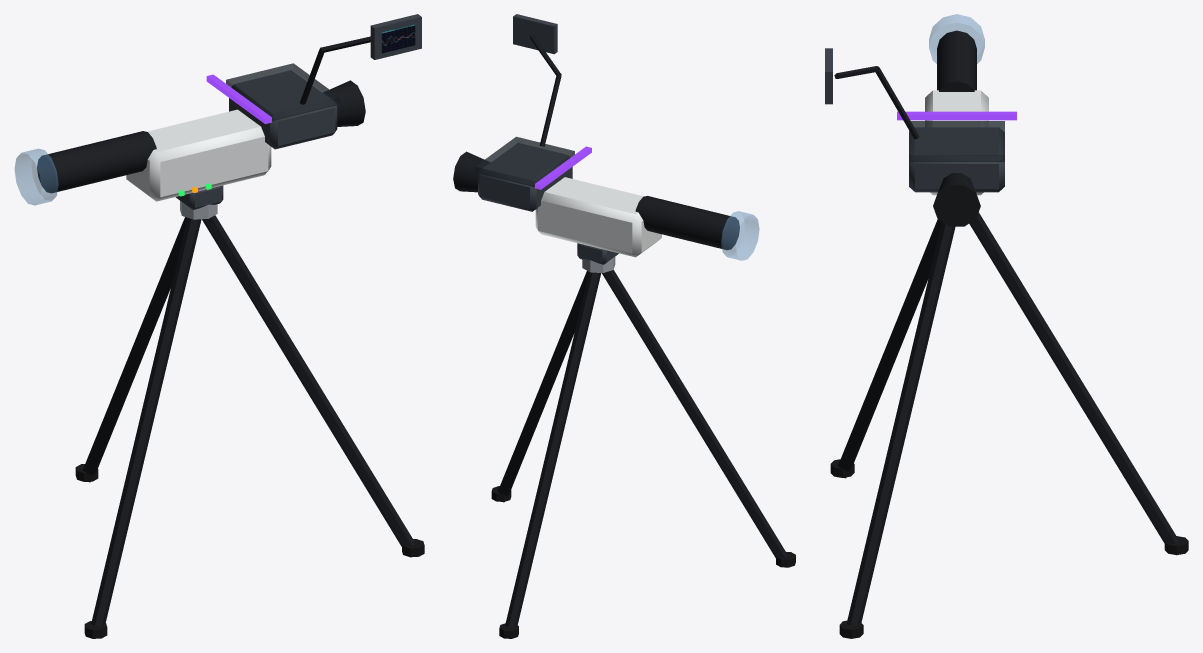
Rendered from telescope_spectrograph_tripod.glb.
3 renders of one model, left to right at view 1: azimuth 30°, elevation 25°; view 2: azimuth 150°, elevation 25°; view 3: azimuth 270°, elevation 25°, orthographic. The views are drawn at different scales.
Visible parts, largest first — view 1: telescope_spectrograph_tripod; view 2: telescope_spectrograph_tripod; view 3: telescope_spectrograph_tripod.
Part boxes in pixels (x1=…): telescope_spectrograph_tripod: x1=14, y1=14, x2=424, y2=638; telescope_spectrograph_tripod: x1=453, y1=14, x2=795, y2=638; telescope_spectrograph_tripod: x1=825, y1=14, x2=1188, y2=638.
Bounding box in the file's own units: 1.02 × 1.55 × 0.9118.
Materials: 11 (1 with a texture image).
